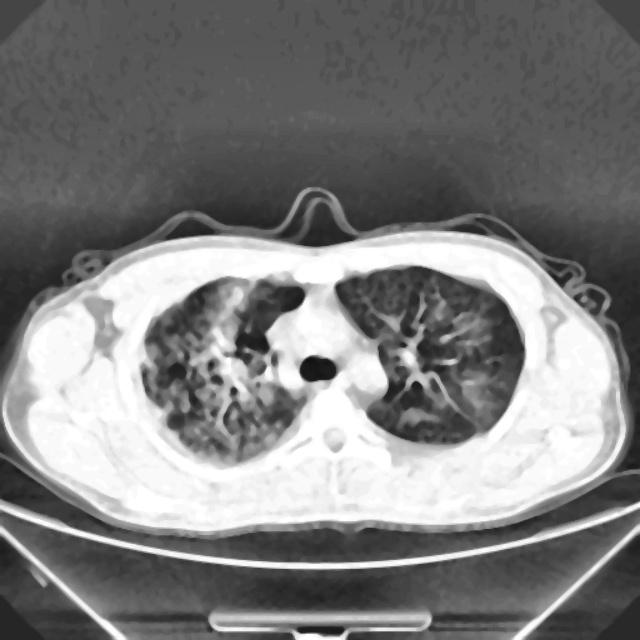covid: (1, 188, 633, 539)
